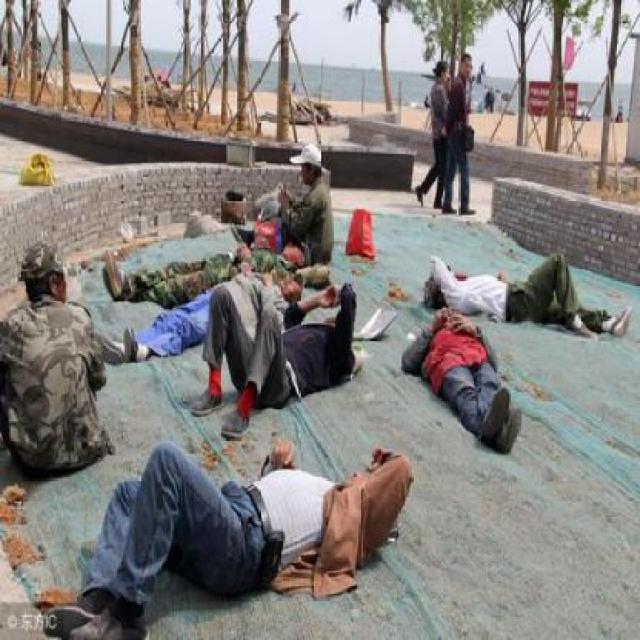fall: (88, 251, 288, 378)
